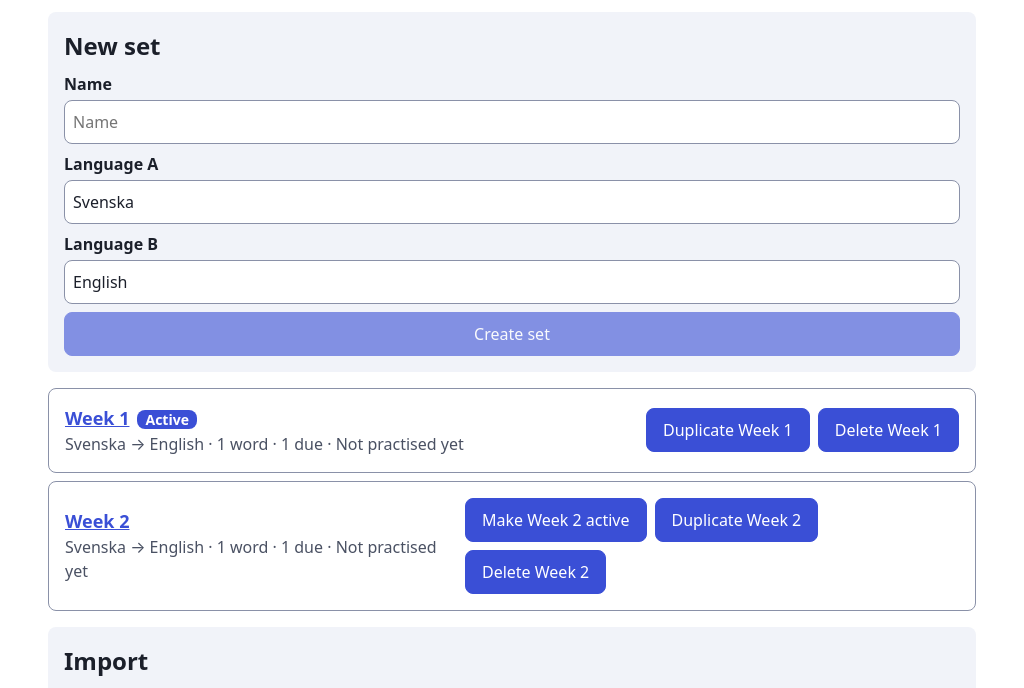
Scenario: set list › FR-ACT-2: makes another set active and persists it
(page scrolled)
Click the button "Make Week 2 active" at (556, 520), box x1=465 y1=498 x2=647 y2=542
(page scrolled)
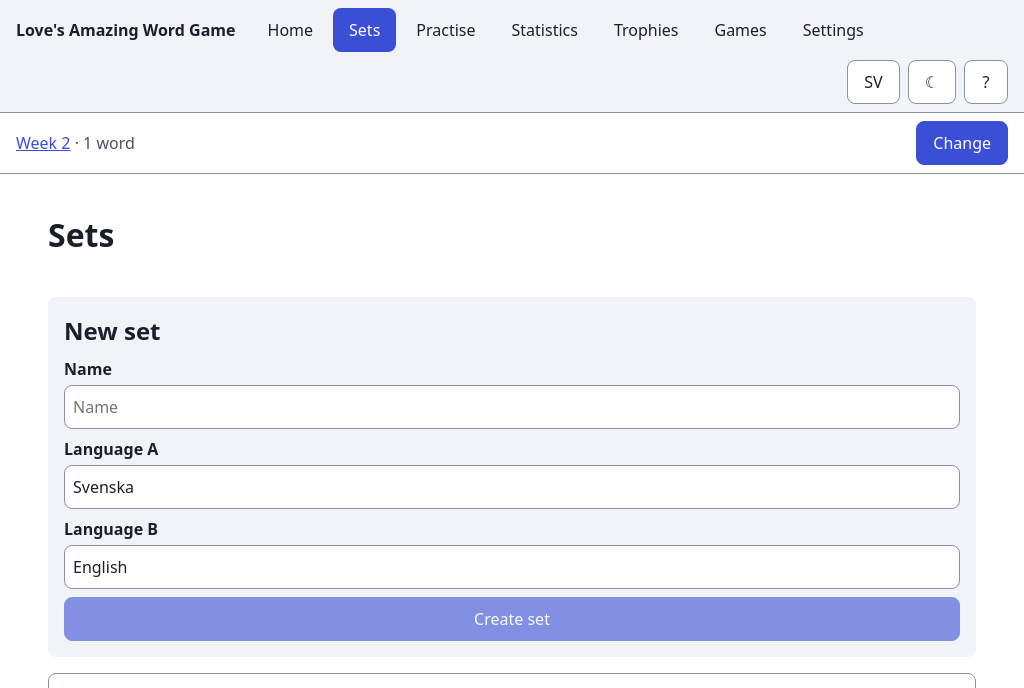
Result: the link "Week 2" is shown at x1=16 y1=132 x2=70 y2=154
